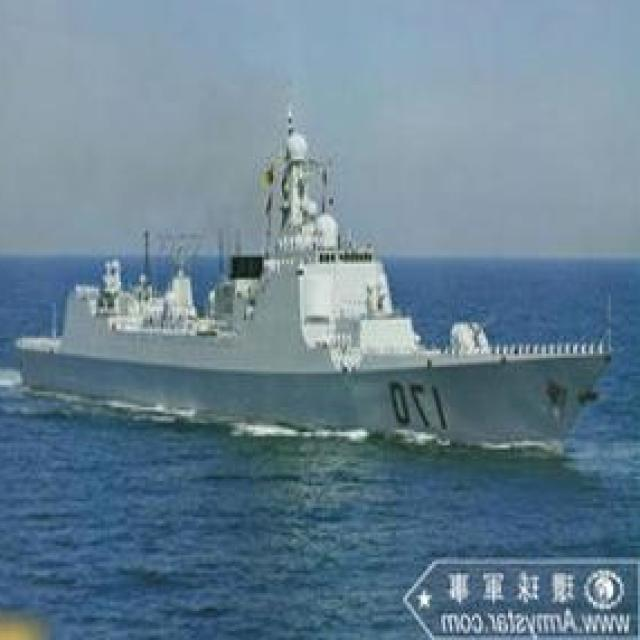navalvessels: (18, 96, 609, 436)
